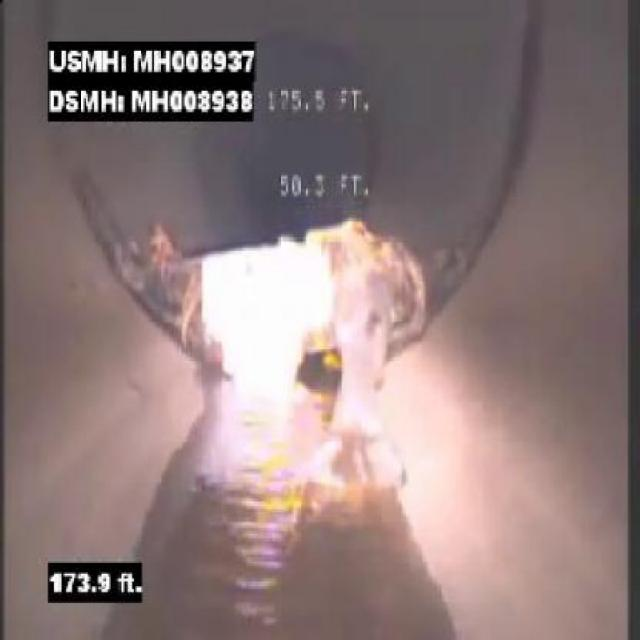Obstacle: (112, 203, 485, 422)
